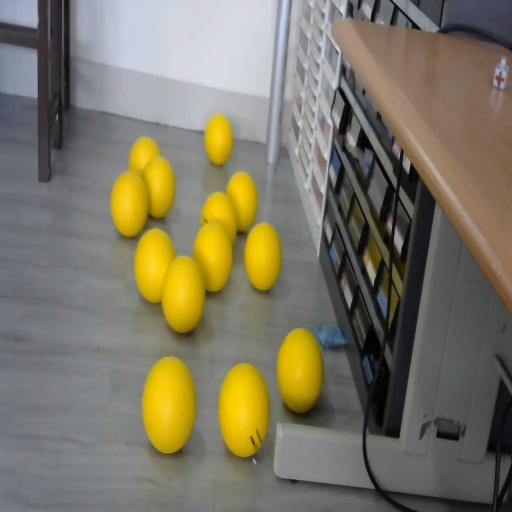FUEL: (142, 354, 196, 453), (218, 363, 270, 457), (276, 328, 323, 413), (134, 227, 176, 303), (193, 220, 234, 292), (110, 170, 149, 238), (244, 221, 282, 290), (143, 155, 176, 219), (226, 171, 259, 232), (204, 114, 234, 166)
